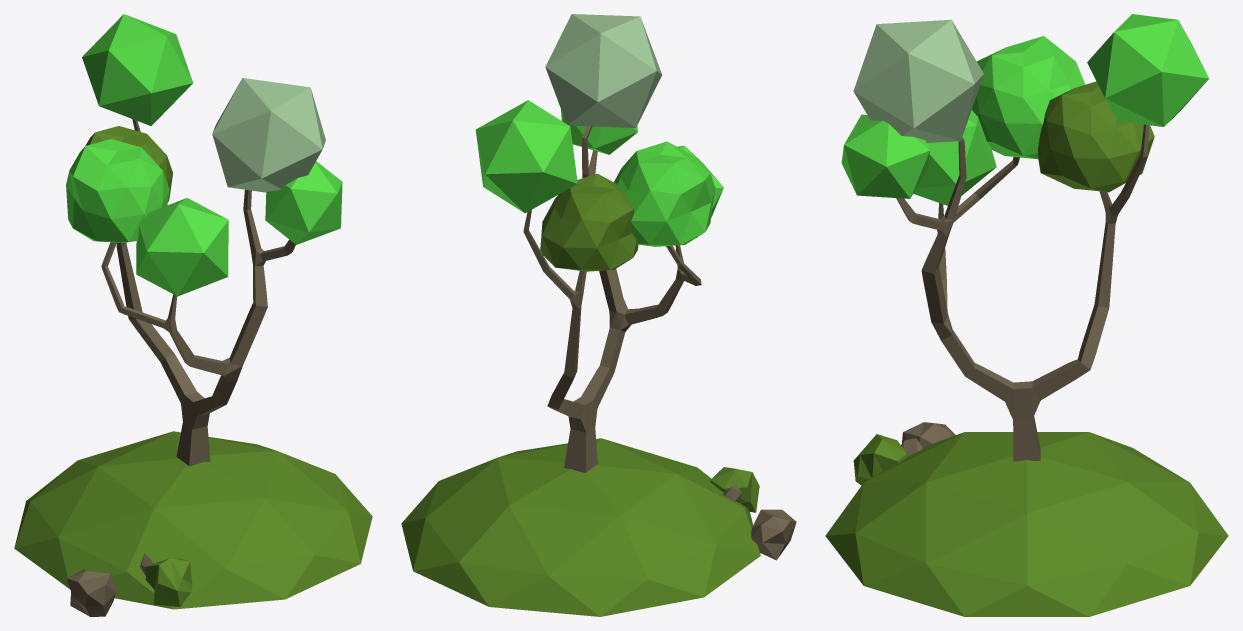
The model's file is tree_plump.glb.
3 renders of one model, left to right at view 1: azimuth 30°, elevation 25°; view 2: azimuth 150°, elevation 25°; view 3: azimuth 270°, elevation 25°, orthographic. The views are drawn at different scales.
Visible parts, largest first — view 1: PlumpTree; view 2: PlumpTree; view 3: PlumpTree.
Part boxes in pixels (bbox=[...]): PlumpTree: bbox=[14, 14, 372, 616]; PlumpTree: bbox=[401, 14, 796, 616]; PlumpTree: bbox=[825, 14, 1228, 616].
Bounding box in the file's own units: 2.03 × 3.02 × 2.05.
1 material, 1 textured.
